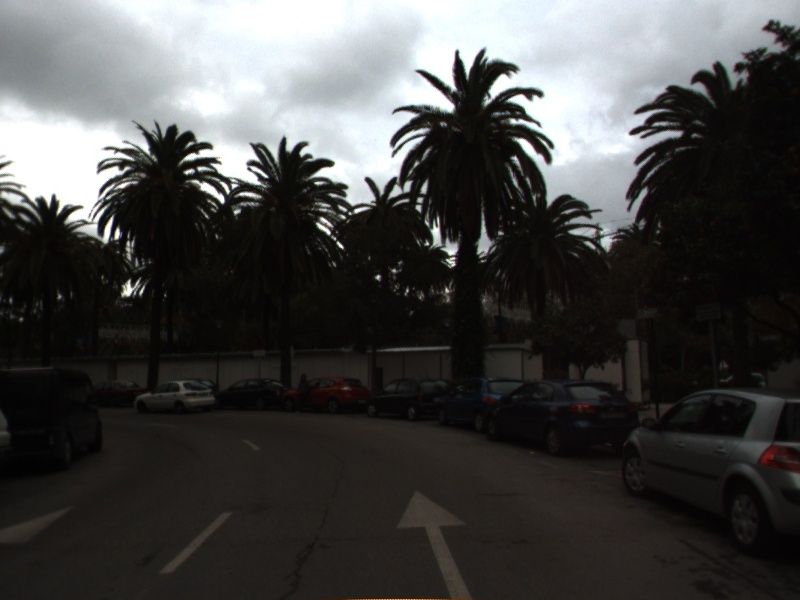STRAIGHT: (392, 487, 478, 600)
